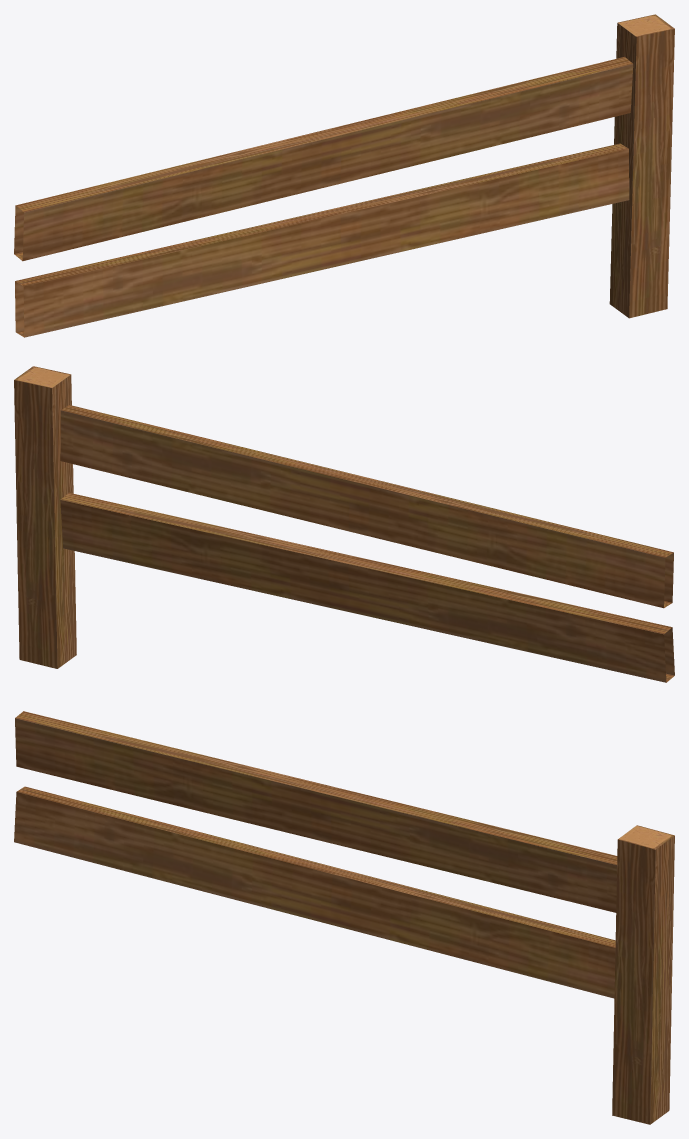
File: fence-qm-propwoodenfenceextension2.glb
3 views of the same model, one above another, from view 1: azimuth 30°, elevation 25°; view 2: azimuth 150°, elevation 25°; view 3: azimuth 330°, elevation 25° (orthographic).
Visible parts, largest first — view 1: Cube_098; view 2: Cube_098; view 3: Cube_098.
Part boxes in pixels (x1,y1,x2,y2): Cube_098: (14,14,674,337); Cube_098: (14,366,674,682); Cube_098: (14,711,674,1124).
Bounding box in the file's own units: 2.03 × 0.8381 × 0.1104.
1 material, 1 textured.
